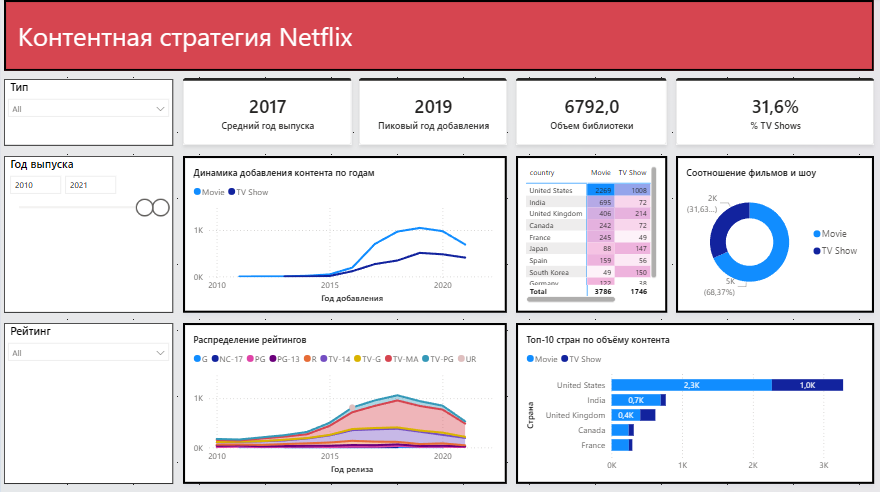

The page's visual inventory and layout, read from the dashboard file:
{"tool":"powerbi","page":{"name":"Контентная стратегия","canvas":[1280,720],"ordinal":0},"visuals":[{"type":"shape","title":"Контент","box":[4.4,0,1265.5,103.3],"z":0},{"type":"cardVisual","fields":{"Data":["_Measures.Total Titles"]},"box":[749.1,113.5,219.6,97.5],"z":1000},{"type":"cardVisual","fields":{"Data":["_Measures.% TV Shows"]},"box":[981.8,113.5,288,97.5],"z":2000},{"type":"cardVisual","fields":{"Data":["_Measures.Avg Release Year"]},"box":[264.7,113.5,245.8,97.5],"z":3000},{"type":"lineChart","title":"Динамика добавления контента по годам","fields":{"Category":["netflix_titles.Year Added"],"Y":["_Measures.Total Titles"],"Series":["netflix_titles.type"]},"box":[264.7,226.9,471.3,228.4],"z":4000},{"type":"donutChart","title":"Соотношение фильмов и шоу","fields":{"Y":["_Measures.Total Titles"],"Category":["netflix_titles.type"]},"box":[981.8,226.9,288,228.4],"z":5000},{"type":"barChart","title":"Топ-10 стран по объёму контента","fields":{"Series":["netflix_titles.type"],"Category":["Countries.country"],"Y":["_Measures.Объём по странам"]},"box":[749.1,469.8,520.7,234.2],"z":6000},{"type":"pivotTable","fields":{"Rows":["Countries.country"],"Columns":["netflix_titles.type"],"Values":["_Measures.Объём по странам"]},"box":[749.1,226.9,219.6,228.4],"z":7000},{"type":"stackedAreaChart","title":"Распределение рейтингов","fields":{"Category":["netflix_titles.release_year"],"Y":["_Measures.Total Titles"],"Series":["netflix_titles.rating"]},"box":[264.7,469.8,471.3,234.2],"z":8000},{"type":"slicer","fields":{"Values":["netflix_titles.release_year"]},"box":[4.4,226.9,245.8,228.4],"z":9000},{"type":"slicer","fields":{"Values":["netflix_titles.type"]},"box":[4.4,114.9,245.8,97.5],"z":10000},{"type":"slicer","fields":{"Values":["netflix_titles.rating"]},"box":[4.4,469.8,245.8,234.2],"z":11000},{"type":"cardVisual","fields":{"Data":["_Measures.Peak Adding Year"]},"box":[520.7,113.5,215.3,97.5],"z":11002}]}

Visuals, with their boxes in screenshot pixels (x1, y1, x2, y2), scaled from the page's 1280x720 canvas onto the 880x492 screenshot:
"Контент" shape: (x1=3, y1=0, x2=873, y2=71)
cardVisual - _Measures.Total Titles: (x1=515, y1=78, x2=666, y2=144)
cardVisual - _Measures.% TV Shows: (x1=675, y1=78, x2=873, y2=144)
cardVisual - _Measures.Avg Release Year: (x1=182, y1=78, x2=351, y2=144)
"Динамика добавления контента по годам" lineChart: (x1=182, y1=155, x2=506, y2=311)
"Соотношение фильмов и шоу" donutChart: (x1=675, y1=155, x2=873, y2=311)
"Топ-10 стран по объёму контента" barChart: (x1=515, y1=321, x2=873, y2=481)
pivotTable - Countries.country x netflix_titles.type: (x1=515, y1=155, x2=666, y2=311)
"Распределение рейтингов" stackedAreaChart: (x1=182, y1=321, x2=506, y2=481)
slicer - netflix_titles.release_year: (x1=3, y1=155, x2=172, y2=311)
slicer - netflix_titles.type: (x1=3, y1=79, x2=172, y2=145)
slicer - netflix_titles.rating: (x1=3, y1=321, x2=172, y2=481)
cardVisual - _Measures.Peak Adding Year: (x1=358, y1=78, x2=506, y2=144)
